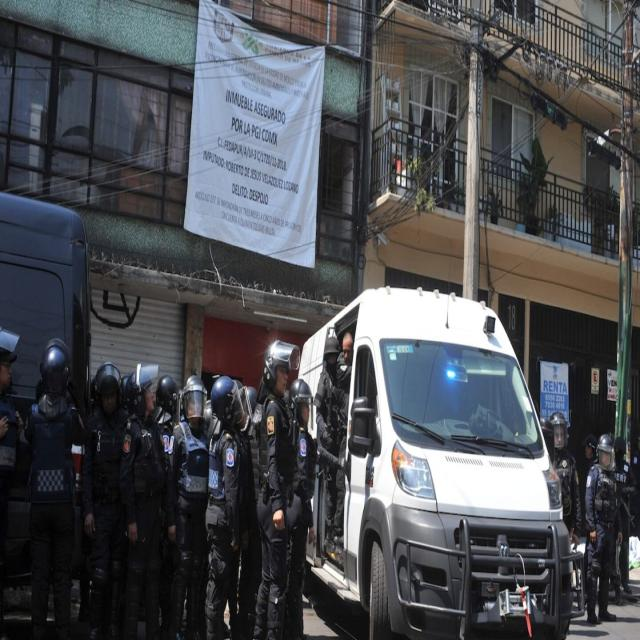stamps: (186, 1, 323, 264)
